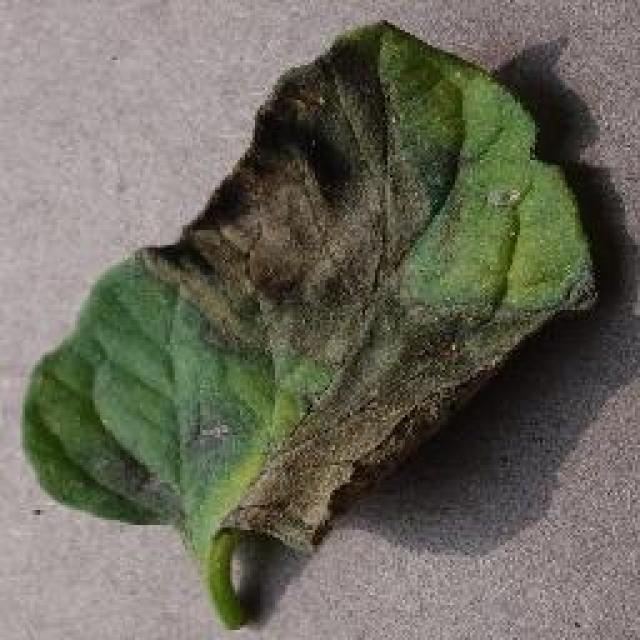leaf blight: (23, 19, 605, 629)
